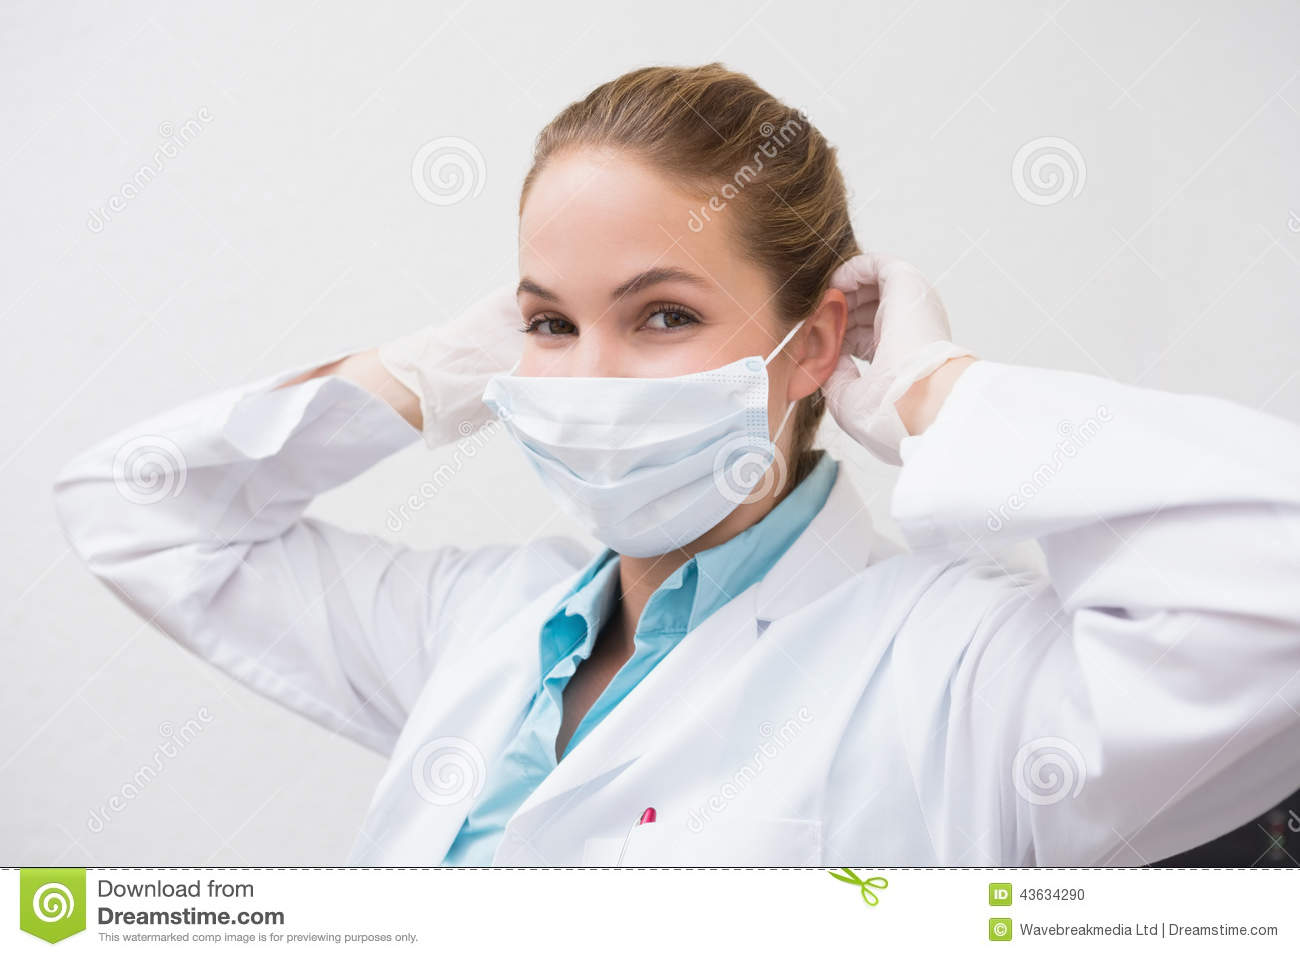mask: (491, 361, 788, 569)
